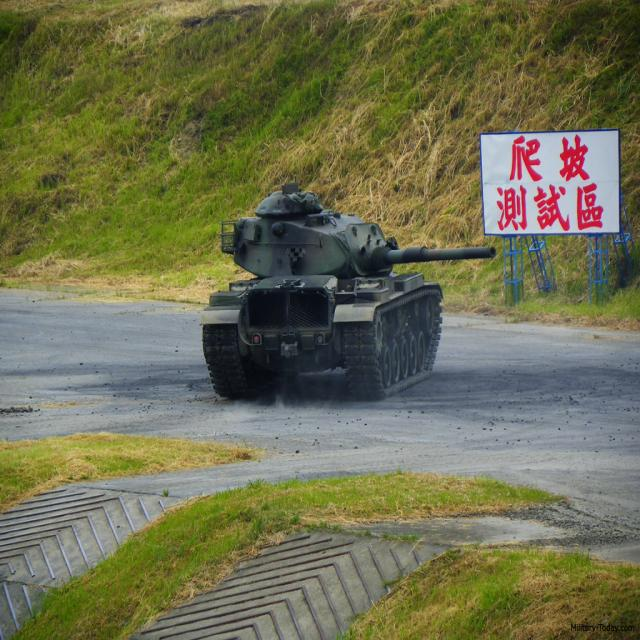Tank: (177, 165, 449, 396)
